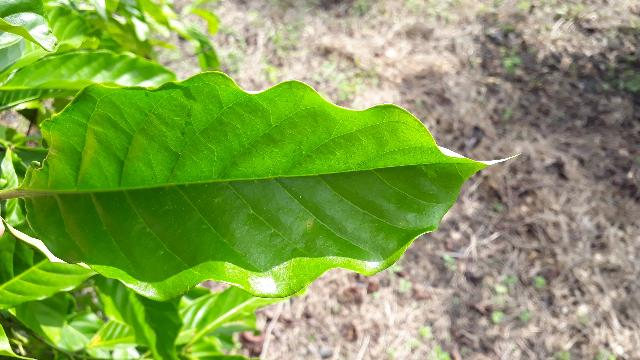healthy: (19, 69, 522, 302)
